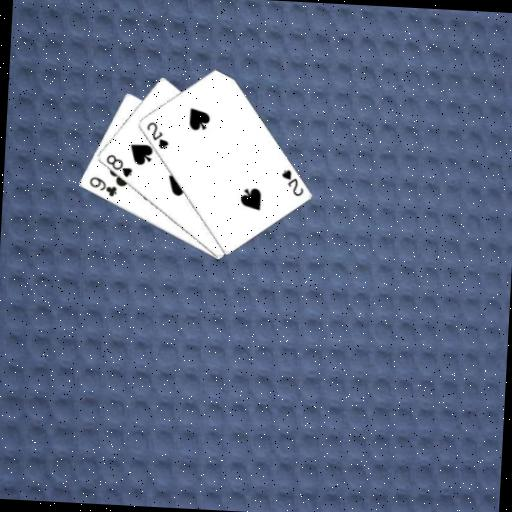2S: (142, 118, 171, 151), (277, 167, 306, 199)
8S: (102, 151, 135, 179)
9C: (86, 174, 120, 199)
